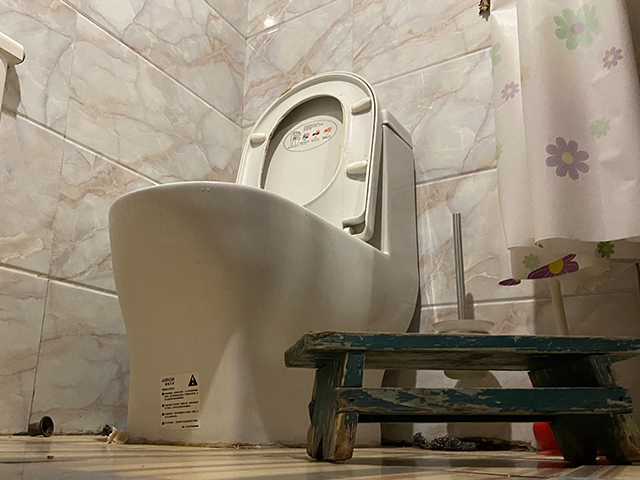closestool: (107, 69, 422, 451)
stool: (283, 331, 640, 468)
